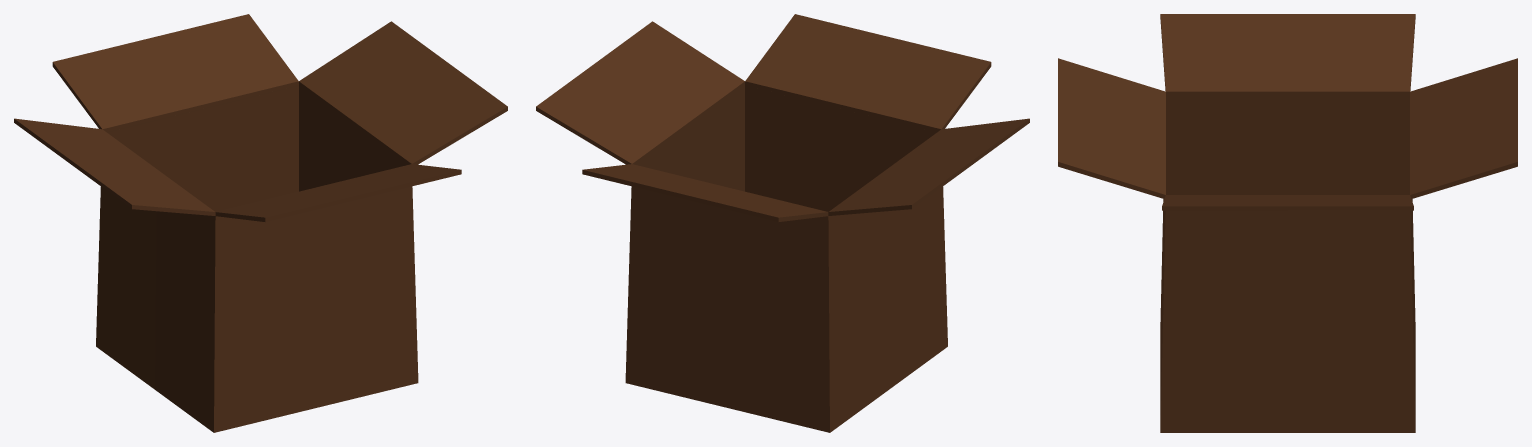
The model's file is EvidenceBox_2.fbx.
3 views of the same model, side by side, from view 1: azimuth 30°, elevation 25°; view 2: azimuth 150°, elevation 25°; view 3: azimuth 270°, elevation 25° (orthographic). The views are drawn at different scales.
Parts seen in each view (by area): view 1: Evidence_Box_Open; view 2: Evidence_Box_Open; view 3: Evidence_Box_Open.
Boxes of the visible parts, x1,y1,x2,y2 form: Evidence_Box_Open: (14,14,507,432); Evidence_Box_Open: (536,14,1029,432); Evidence_Box_Open: (1058,14,1517,432).
Size of the model in its own units: 368 by 237 by 360.
